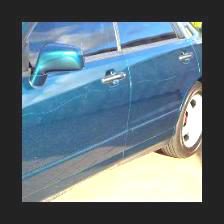door_scratch: (29, 84, 127, 118), (132, 67, 194, 89)
